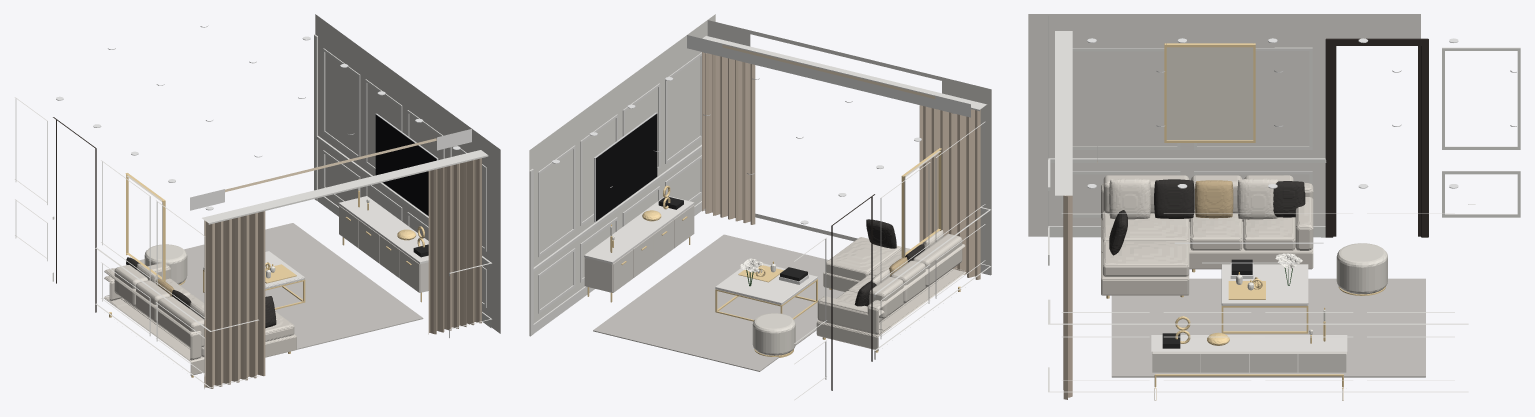
Rendered from LIVING.glb.
The picture shows the model from 3 angles, left to right: view 1: azimuth 30°, elevation 25°; view 2: azimuth 150°, elevation 25°; view 3: azimuth 270°, elevation 25°; orthographic projection. The views are drawn at different scales.
Parts seen in each view (by area): view 1: WEB_LIVING; view 2: WEB_LIVING; view 3: WEB_LIVING.
Part boxes in pixels (x1,y1,x2,y2): WEB_LIVING: [14, 14, 500, 388]; WEB_LIVING: [529, 14, 991, 400]; WEB_LIVING: [1028, 14, 1520, 400].
Size of the model in its own units: 4 by 2.5 by 5.01.
